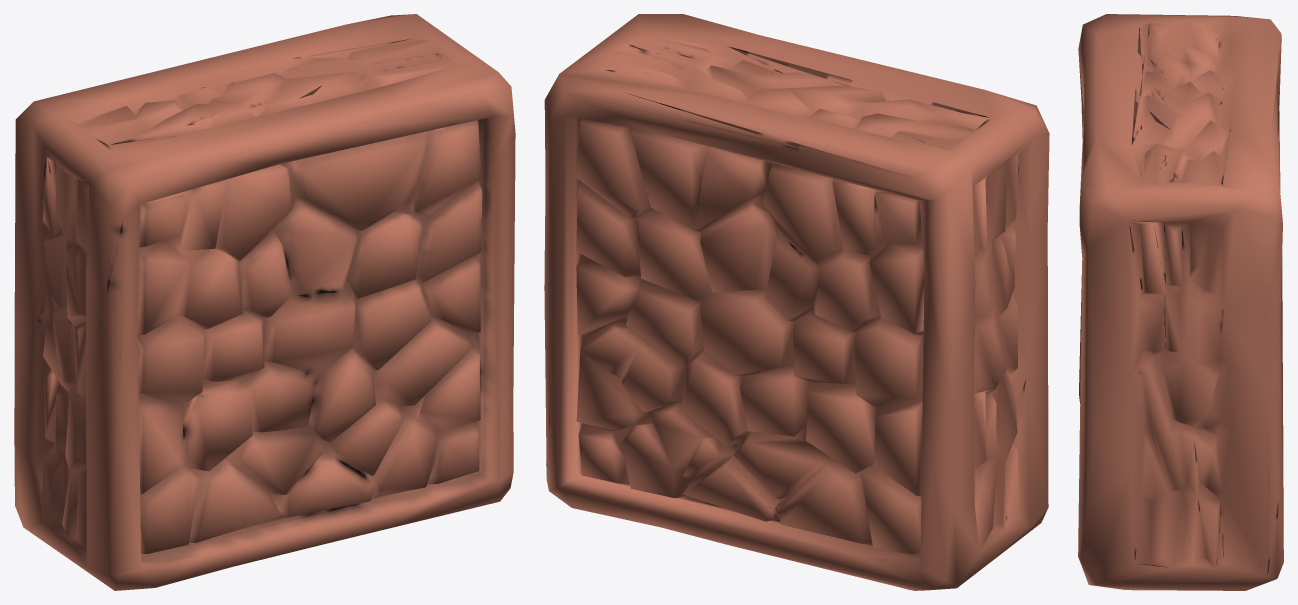
The model's file is wall.fbx.
3 renders of one model, left to right at view 1: azimuth 30°, elevation 25°; view 2: azimuth 150°, elevation 25°; view 3: azimuth 270°, elevation 25°, orthographic. The views are drawn at different scales.
Parts seen in each view (by area): view 1: LOW; view 2: LOW; view 3: LOW.
Boxes of the visible parts, bbox=[...] form: LOW: bbox=[14, 14, 515, 590]; LOW: bbox=[544, 14, 1049, 590]; LOW: bbox=[1078, 14, 1283, 590].
Size of the model in its own units: 1.01 by 1 by 0.4645.
Materials: 1 (1 with a texture image).
